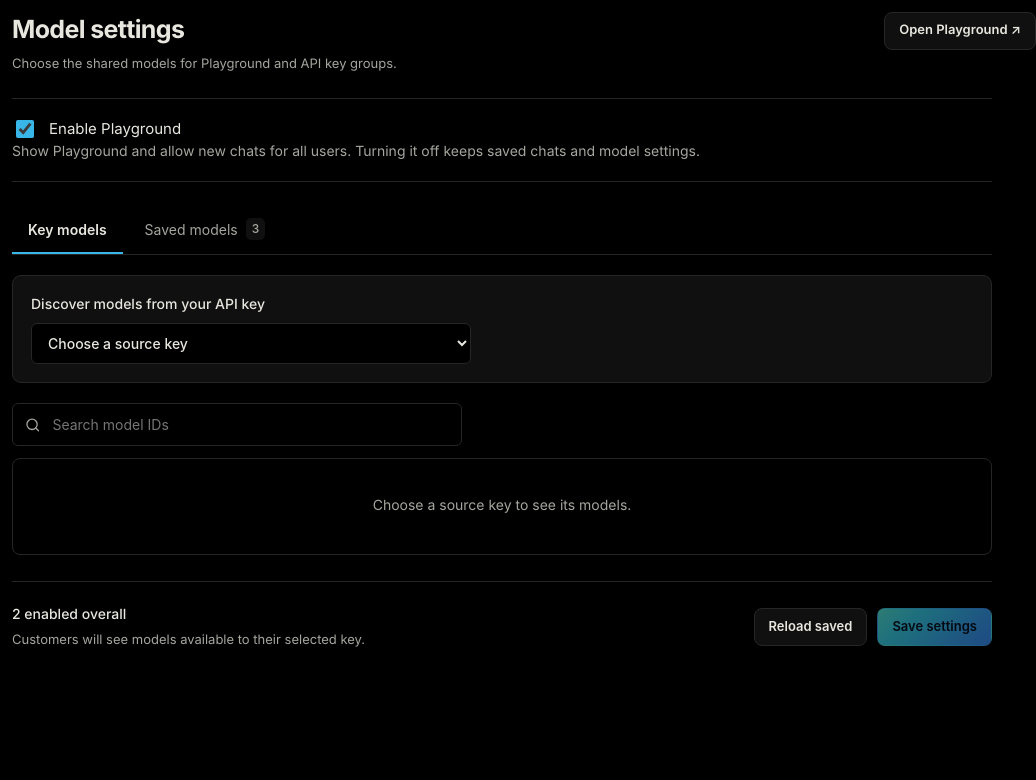
it: admin model settings › hides a catalog when its key is unavailable and can recover through key pagination
Select "First key" in the dropdown labelled "Discover models from your API key": x=251, y=344 [31,323,471,364]
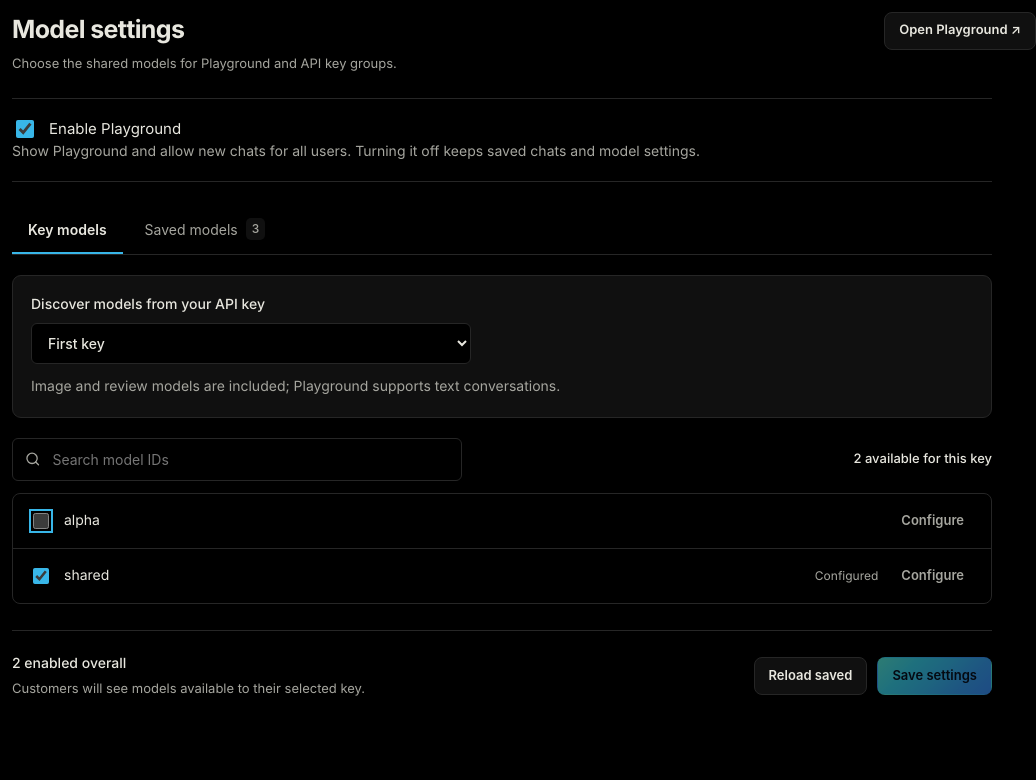
Click the checkbox labelled "alpha": x=41, y=521 [33,513,49,529]
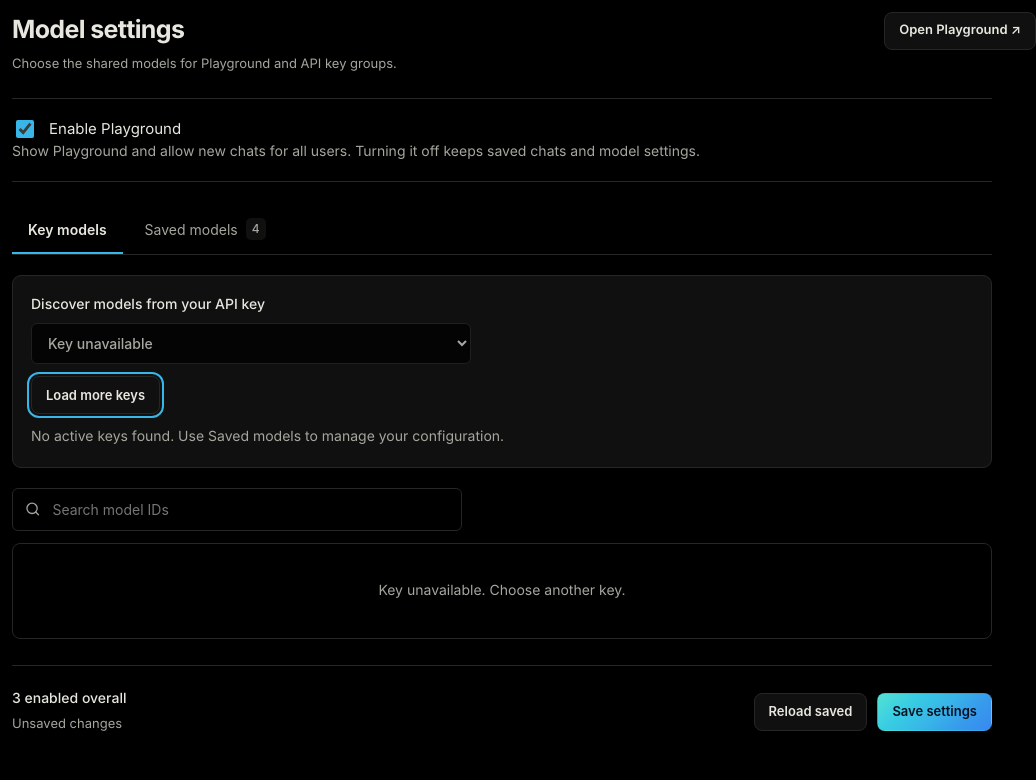
expect the text "Key unavailable. Choose another key." is shown: met, box [378,582,626,599]
Click the button "Load more keys": x=96, y=395 [31,376,160,414]
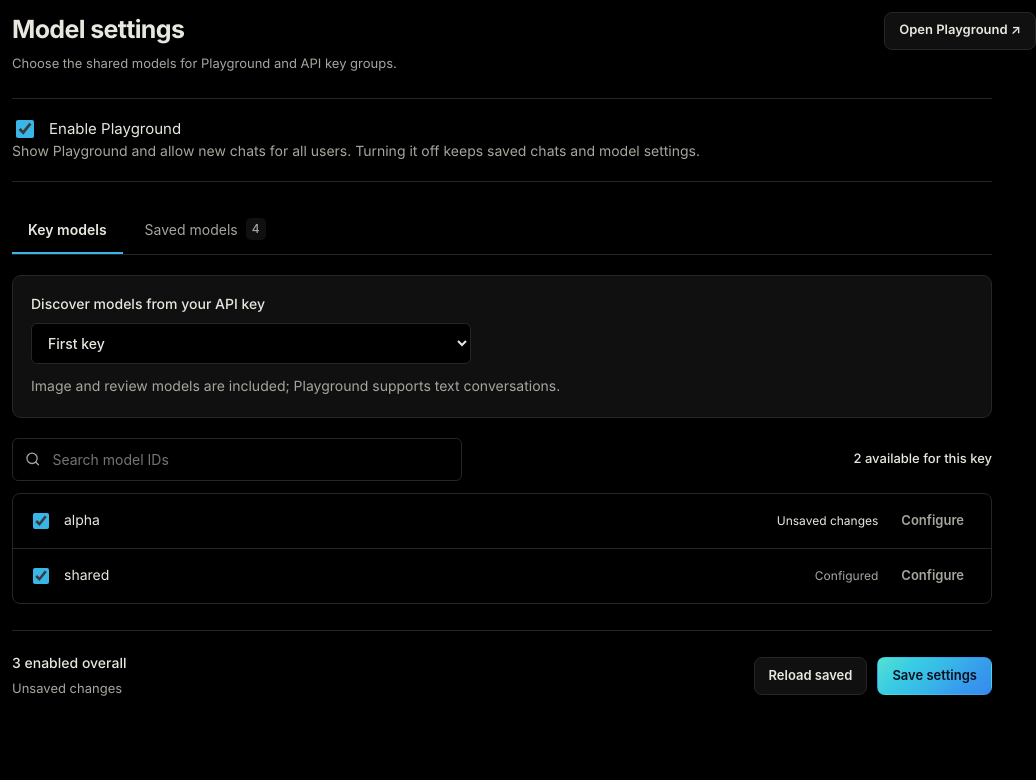
expect the checkbox labelled "alpha" is checked: met, box [33,513,49,529]
